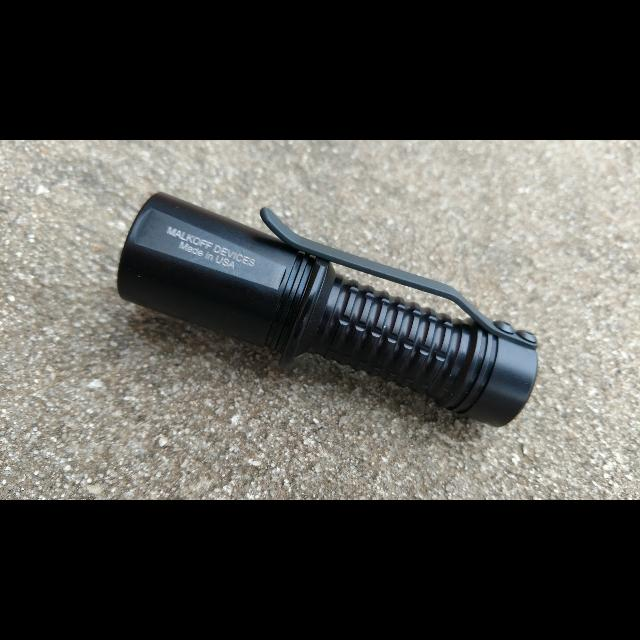Flashlight: (109, 181, 546, 435)
